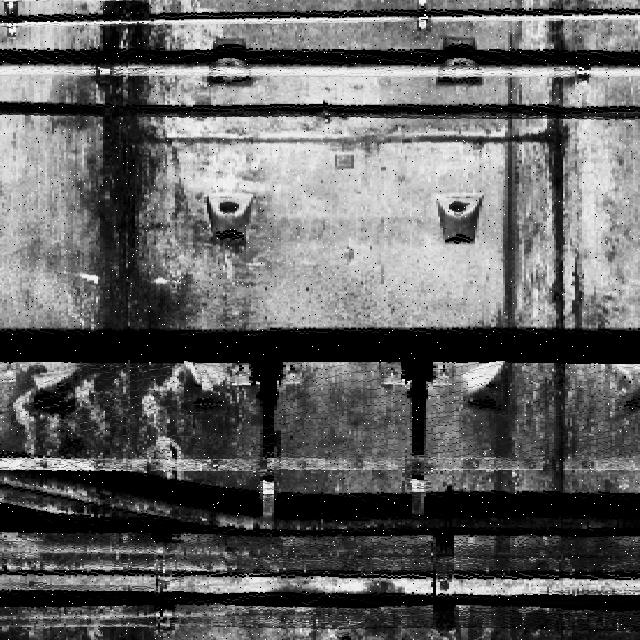leakage: (25, 0, 205, 515), (539, 0, 594, 492), (490, 0, 530, 572)
